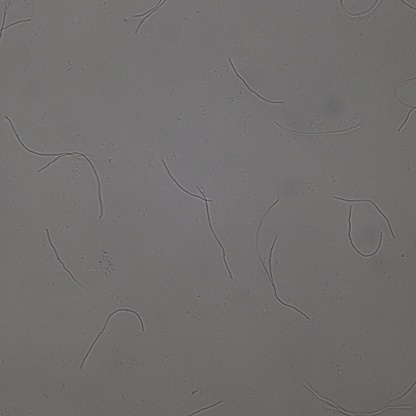Sensitive: (5, 116, 104, 220), (255, 197, 308, 319), (81, 305, 146, 366), (304, 382, 416, 416), (197, 187, 232, 278), (228, 57, 282, 105), (333, 194, 394, 236), (163, 160, 214, 205), (46, 230, 83, 288), (347, 205, 383, 258), (275, 122, 363, 140), (393, 76, 416, 134), (133, 1, 166, 36)
